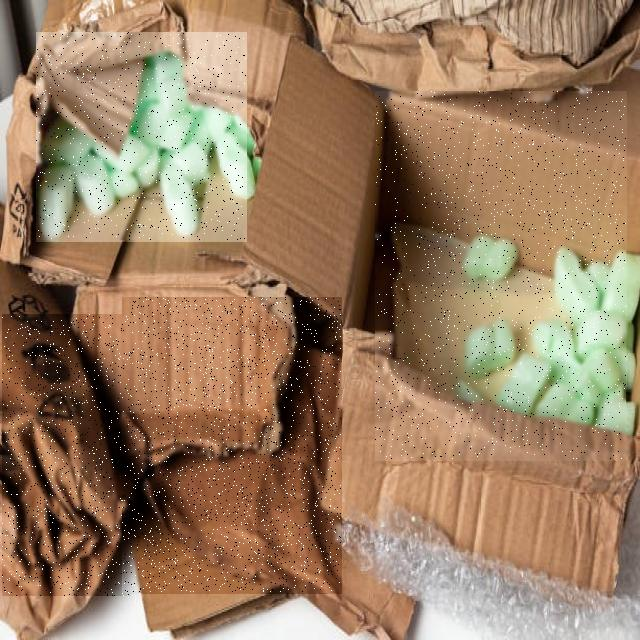leakage: (376, 91, 626, 459), (37, 32, 246, 240)
squeeze: (122, 298, 341, 592), (3, 314, 131, 596)
